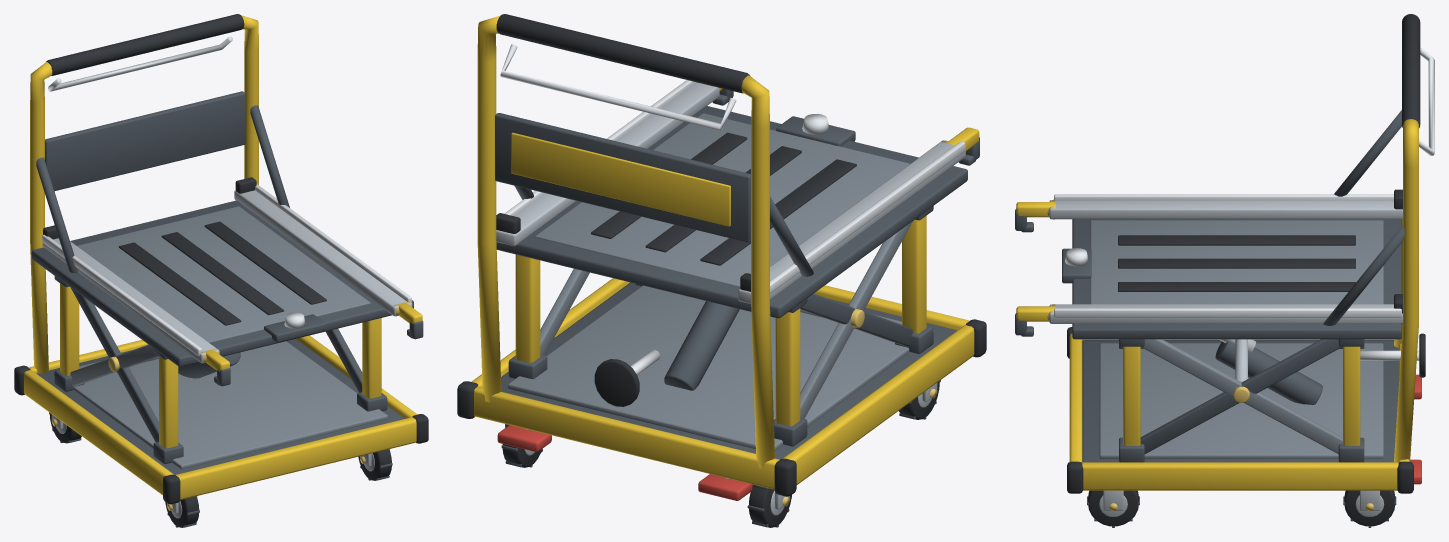
Rendered from vcb-trolley.glb.
3 renders of one model, left to right at view 1: azimuth 30°, elevation 25°; view 2: azimuth 150°, elevation 25°; view 3: azimuth 270°, elevation 25°, orthographic. The views are drawn at different scales.
Visible parts, largest first — view 1: VcbTrolleyFrame, TrolleyWheelMesh_2, TrolleyWheelMesh_3, TrolleyLatchHookMesh_R, TrolleyLatchHookMesh_L; view 2: VcbTrolleyFrame, TrolleyBrakePedals, TrolleyWheelMesh_0, TrolleyLatchHookMesh_L, TrolleyWheelMesh_1, TrolleyWheelMesh_2; view 3: VcbTrolleyFrame, TrolleyWheelMesh_3, TrolleyWheelMesh_1, TrolleyLatchHookMesh_L, TrolleyLatchHookMesh_R.
Part boxes in pixels (box(x1,y1,x2,y2)): VcbTrolleyFrame: box(14, 14, 428, 513); TrolleyWheelMesh_2: box(165, 496, 199, 527); TrolleyWheelMesh_3: box(358, 449, 392, 480); TrolleyLatchHookMesh_R: box(393, 301, 423, 339); TrolleyLatchHookMesh_L: box(201, 348, 230, 386); VcbTrolleyFrame: box(457, 14, 986, 509); TrolleyBrakePedals: box(497, 425, 752, 500); TrolleyWheelMesh_0: box(747, 484, 791, 527); TrolleyLatchHookMesh_L: box(941, 127, 979, 165); TrolleyWheelMesh_1: box(501, 424, 542, 467); TrolleyWheelMesh_2: box(899, 380, 940, 419); VcbTrolleyFrame: box(1049, 14, 1434, 511); TrolleyWheelMesh_3: box(1087, 490, 1139, 527); TrolleyWheelMesh_1: box(1343, 490, 1396, 527); TrolleyLatchHookMesh_L: box(1015, 199, 1055, 232); TrolleyLatchHookMesh_R: box(1015, 304, 1055, 336).
Bounding box in the file's own units: 0.732 × 0.9817 × 0.917.
